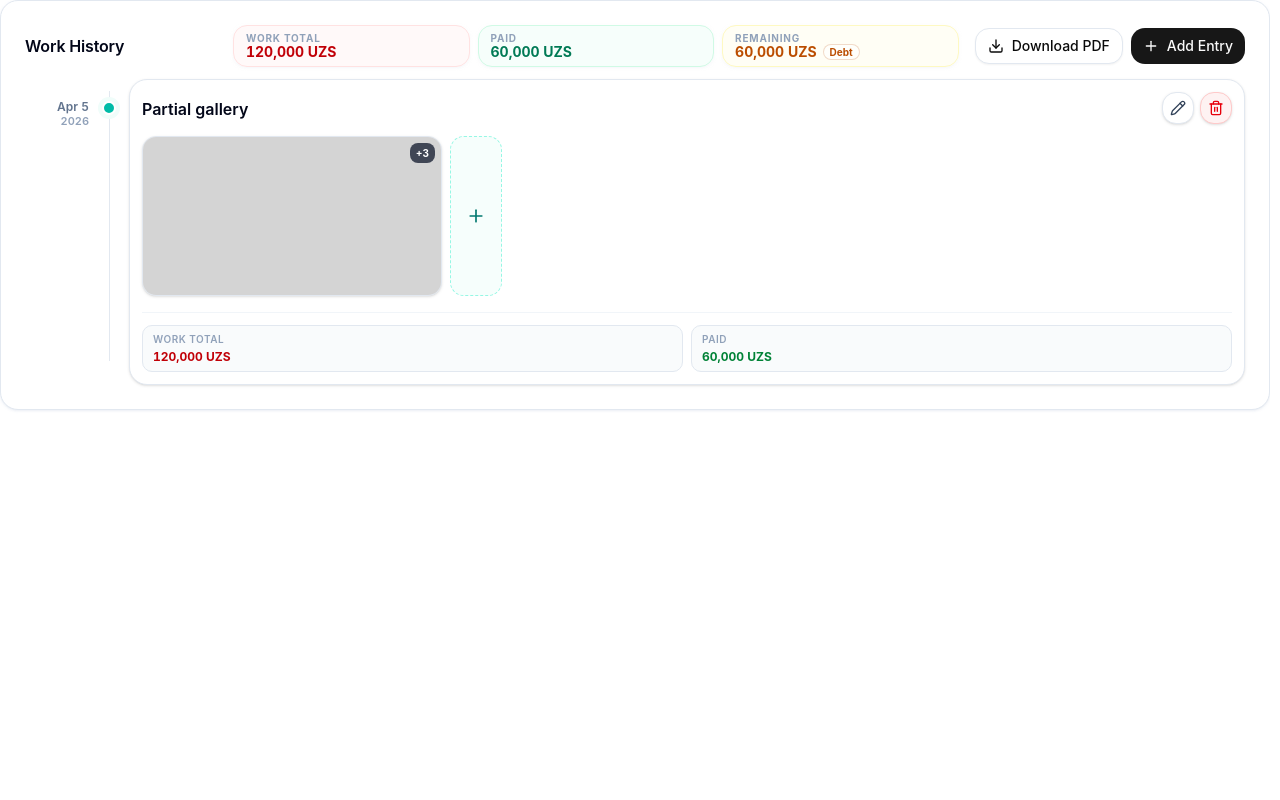
Test: TreatmentHistoryCard image controls › loads full treatment image detail before opening a partial gallery payload
Check: the heading "Partial gallery" is shown, box x1=142 y1=99 x2=248 y2=119
Click the button named "Image 1". click: (292, 216)
box: x1=142 y1=136 x2=442 y2=296
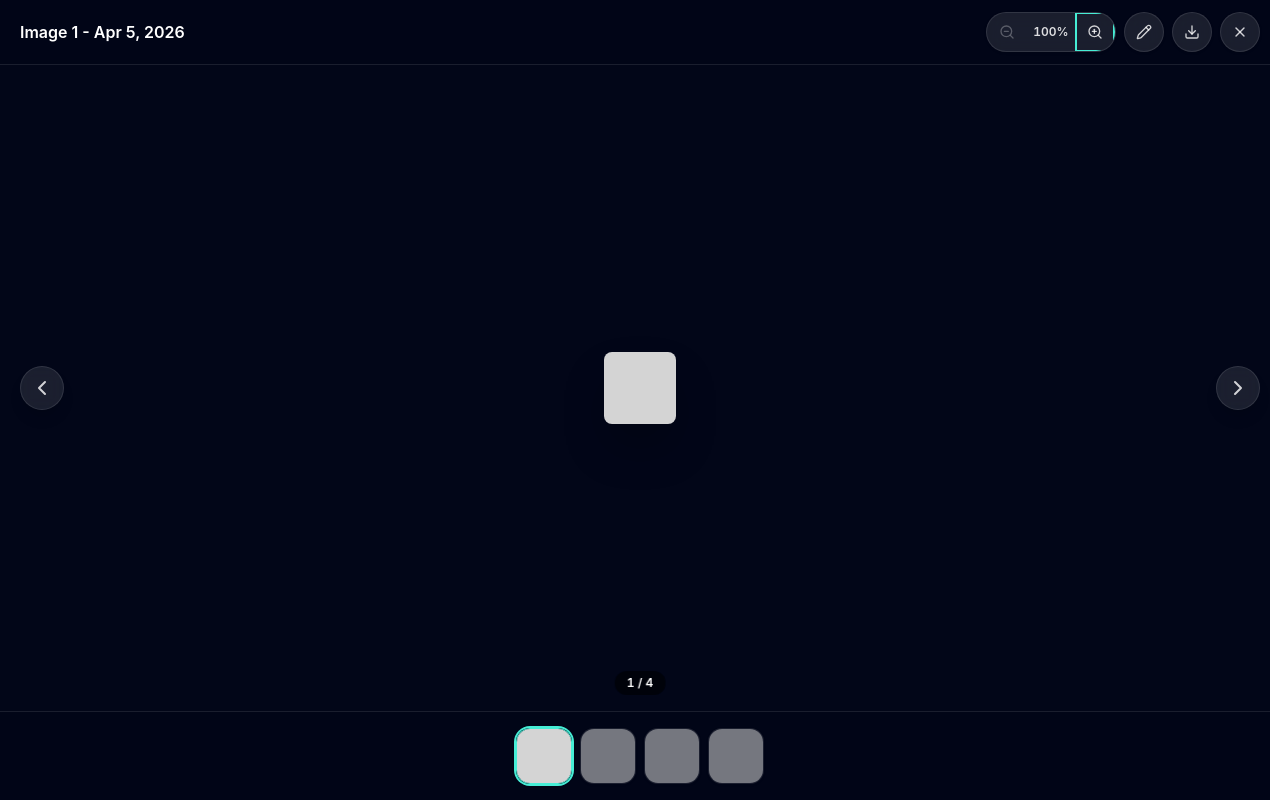
Check: the dialog is shown
Check: the heading "Image 1 - Apr 5, 2026" is shown, box x1=20 y1=22 x2=185 y2=42
Check: the text "1 / 4" is shown, box x1=615 y1=671 x2=665 y2=695
